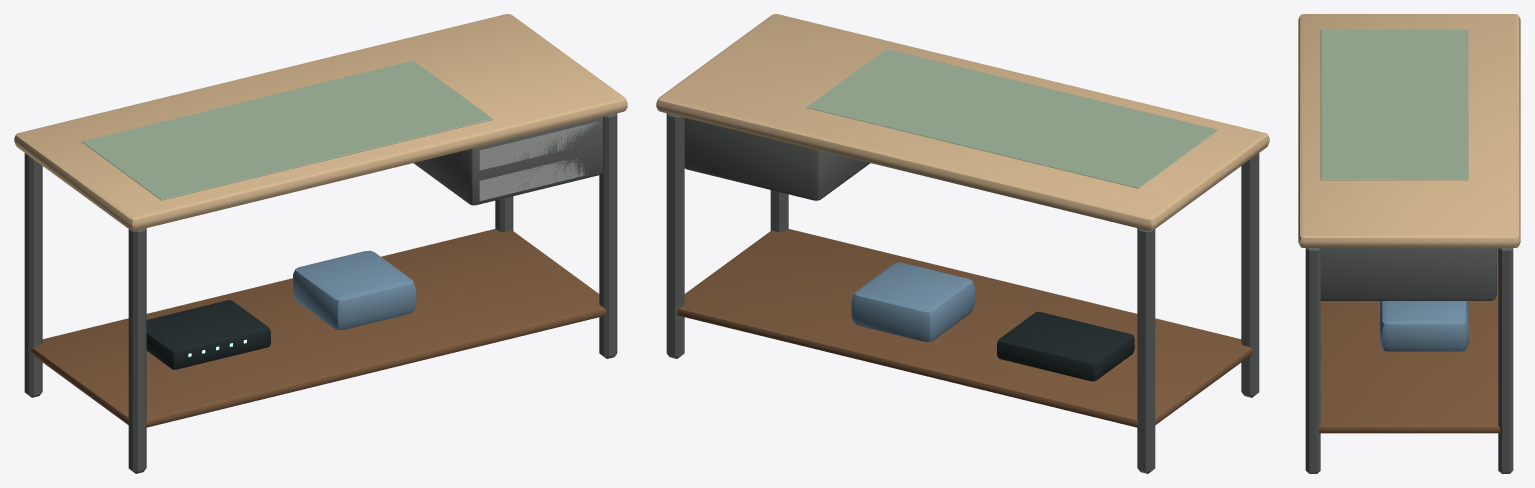
Rendered from lab_bench.glb.
3 renders of one model, left to right at view 1: azimuth 30°, elevation 25°; view 2: azimuth 150°, elevation 25°; view 3: azimuth 270°, elevation 25°, orthographic. The views are drawn at different scales.
Parts seen in each view (by area): view 1: FURN-lab_bench; view 2: FURN-lab_bench; view 3: FURN-lab_bench.
Part boxes in pixels (x1=…): FURN-lab_bench: x1=14, y1=14, x2=627, y2=473; FURN-lab_bench: x1=656, y1=14, x2=1269, y2=473; FURN-lab_bench: x1=1298, y1=14, x2=1520, y2=473.
Size of the model in its own units: 1.8 by 0.904 by 0.75.
